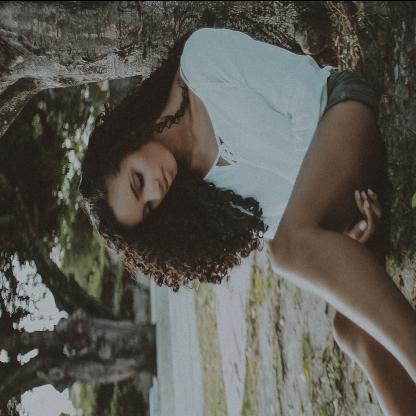Eye: (134, 168, 146, 191), (144, 198, 154, 216)
Mouth: (160, 162, 172, 193)
Nose: (145, 176, 163, 202)
